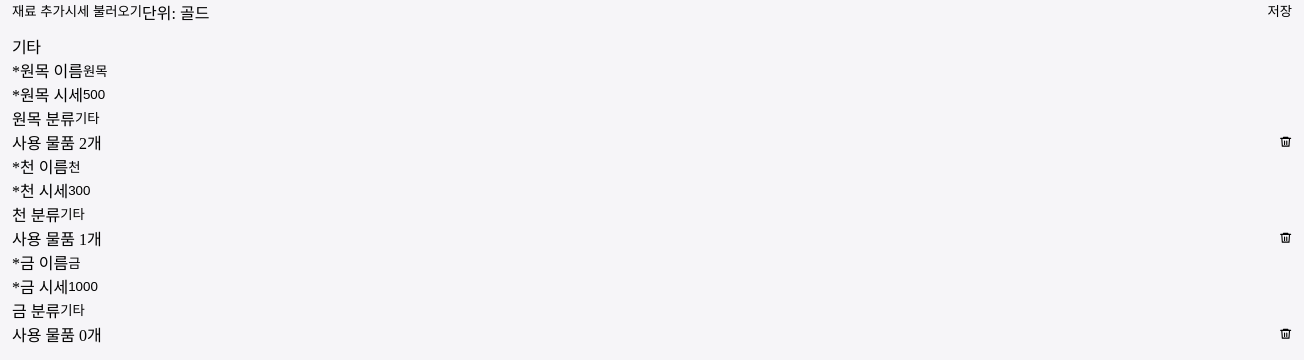
Test: MarketEditor › '시세 불러오기'는 서버 값으로 되돌린다
Replace the text in the number field labelled "원목 시세" with "700". click: (687, 94)
box: top-left (83, 86), bottom-right (1292, 102)
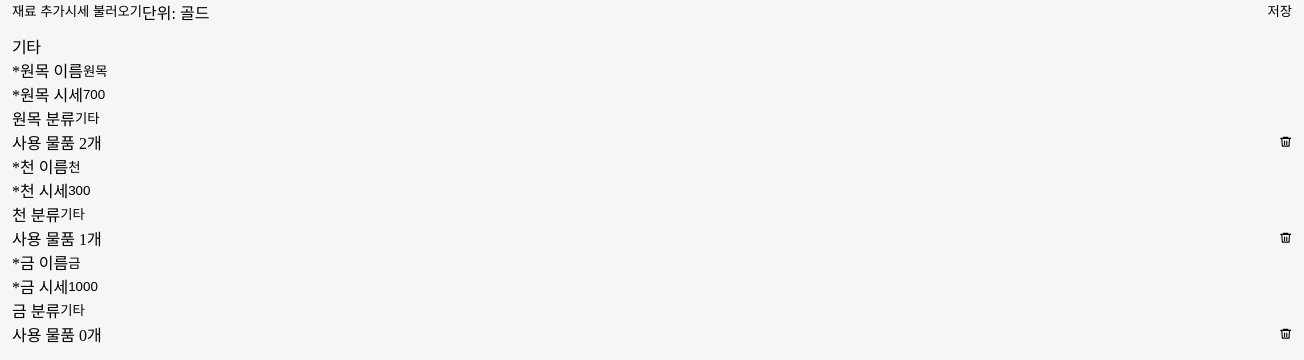
Click the button "시세 불러오기". click: (103, 12)
box: top-left (65, 5), bottom-right (142, 19)
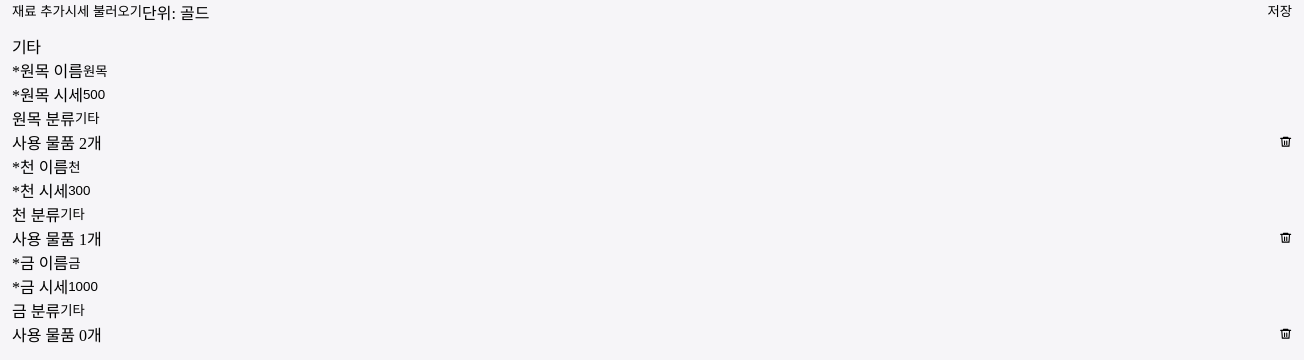
expect the button "저장" is disabled: met, box top-left (1268, 5), bottom-right (1292, 19)
expect the number field labelled "원목 시세" holds "500": met, box top-left (83, 86), bottom-right (1292, 102)
